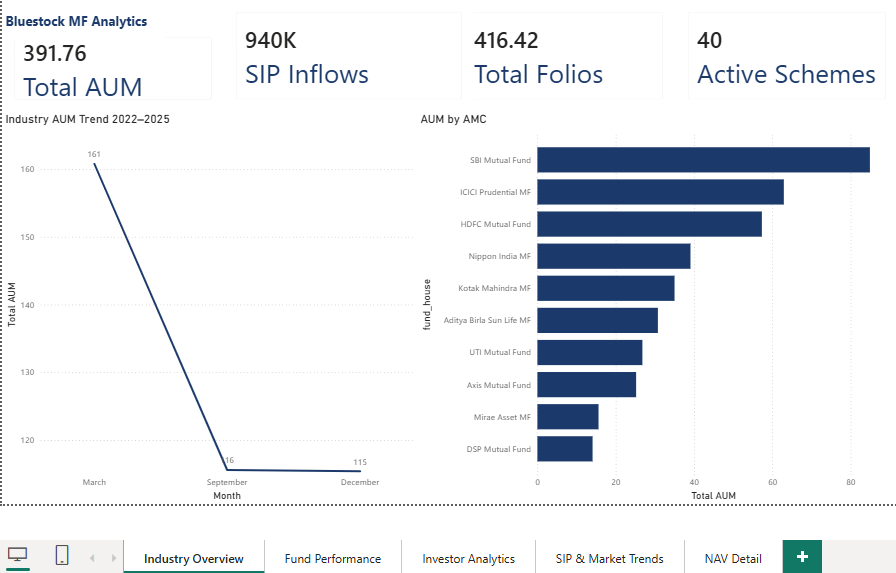

The page's visual inventory and layout, read from the dashboard file:
{"tool":"powerbi","page":{"name":"Industry Overview","canvas":[1280,720],"ordinal":0},"visuals":[{"type":"cardVisual","fields":{"Data":["Aum.Total AUM"]},"box":[0,35.1,317.6,124.4],"z":0},{"type":"cardVisual","fields":{"Data":["Sum(Folio.total_folios_crore)"]},"box":[643.8,0,317.2,159.5],"z":1000},{"type":"cardVisual","fields":{"Data":["CountNonNull(Fund.scheme_name)"]},"box":[962.8,0,317.2,159.5],"z":2000},{"type":"cardVisual","fields":{"Data":["Sum(SIP.sip_inflow_crore)"]},"box":[317.6,0,357.1,159.5],"z":3000},{"type":"lineChart","title":"Industry AUM Trend 2022–2025","fields":{"Y":["Aum.Total AUM"],"Category":["Aum.date.Variation.Date Hierarchy.Month"]},"box":[0,159.5,592.5,560.2],"z":4000},{"type":"clusteredBarChart","title":"AUM by AMC","fields":{"Category":["Fund.fund_house"],"Y":["Aum.Total AUM"]},"box":[592.5,159.5,687.5,560.2],"z":5000},{"type":"textbox","box":[0,11.7,234.1,46.8],"z":6000}]}

Visuals, with their boxes on the page's 1280x720 design canvas (x1, y1, x2, y2). These are canvas units, not pixel positions in the 896x573 screenshot, which may show the page scaled, cropped or inside an application window:
cardVisual - Aum.Total AUM: <box>0,35,318,160</box>
cardVisual - Sum(Folio.total_folios_crore): <box>644,0,961,160</box>
cardVisual - CountNonNull(Fund.scheme_name): <box>963,0,1280,160</box>
cardVisual - Sum(SIP.sip_inflow_crore): <box>318,0,675,160</box>
"Industry AUM Trend 2022–2025" lineChart: <box>0,160,592,720</box>
"AUM by AMC" clusteredBarChart: <box>592,160,1280,720</box>
textbox: <box>0,12,234,58</box>
